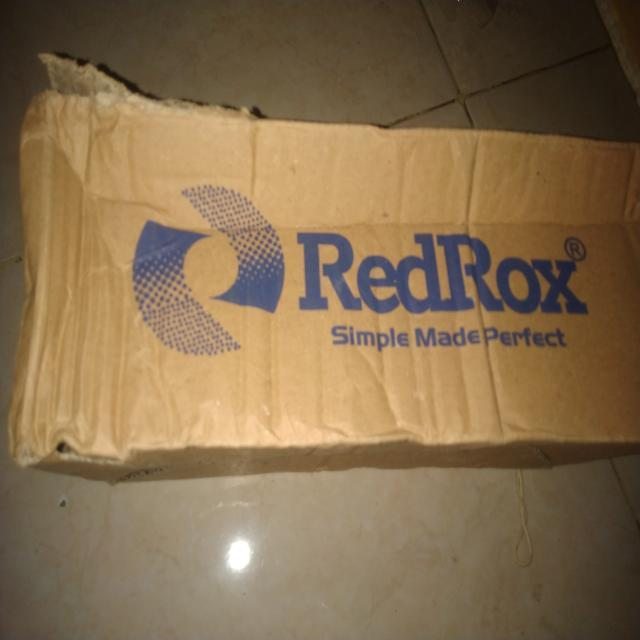box: (12, 48, 640, 484)
crushed: (376, 136, 514, 439), (29, 220, 141, 470)
opened: (15, 52, 261, 124)
